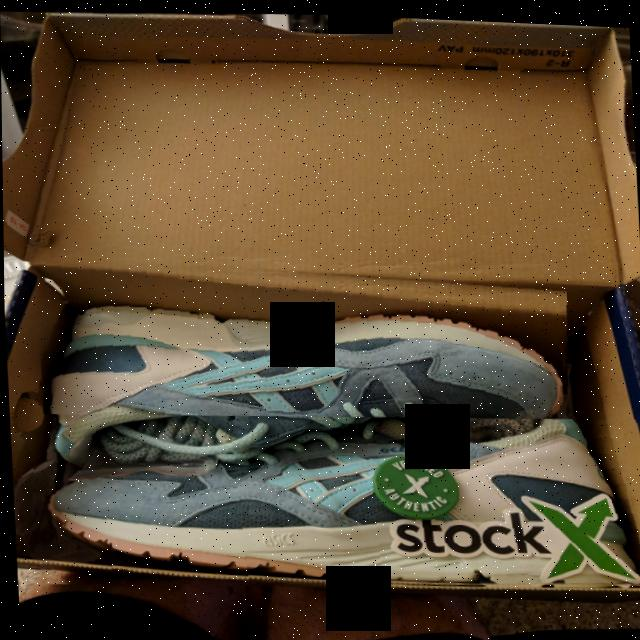shoe: (35, 236, 574, 481), (25, 391, 640, 604)
